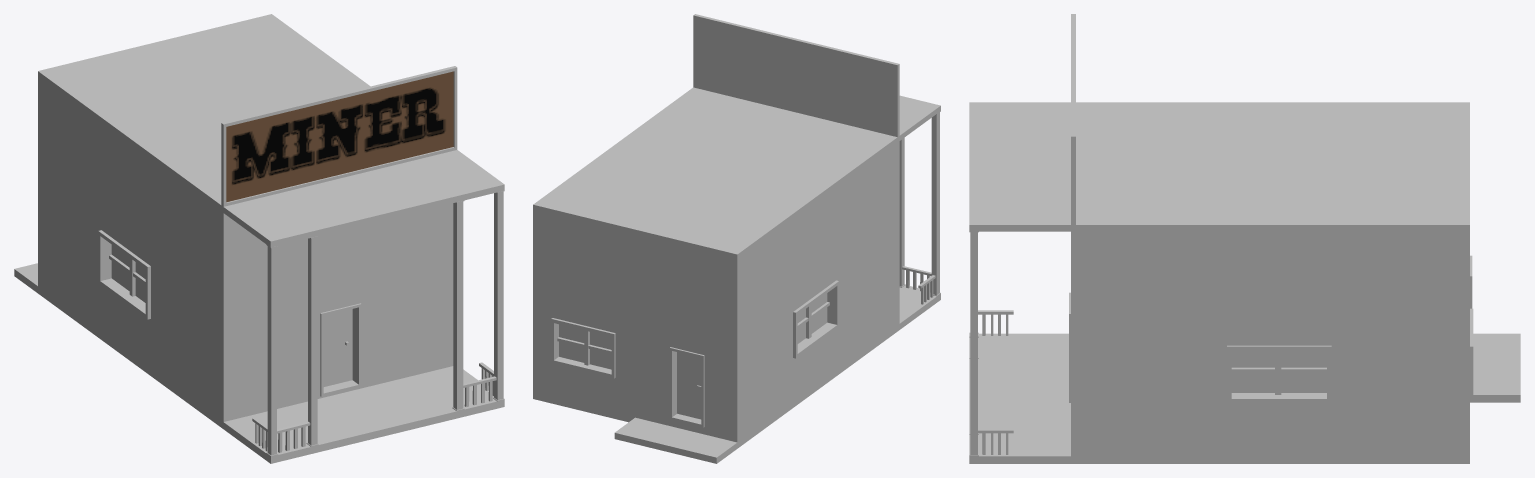
Rendered from Casa_1.fbx.
3 views of the same model, side by side, from view 1: azimuth 30°, elevation 25°; view 2: azimuth 150°, elevation 25°; view 3: azimuth 270°, elevation 25° (orthographic). The views are drawn at different scales.
Parts seen in each view (by area): view 1: Casa, Banner; view 2: Casa; view 3: Casa.
Boxes of the visible parts, <box> form: Casa: <box>14,14,504,463</box>; Banner: <box>226,71,453,202</box>; Casa: <box>533,14,940,463</box>; Casa: <box>969,14,1520,463</box>.
Size of the model in its own units: 1728 by 2106 by 3215.
